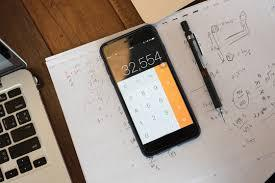Calculator: (112, 48, 195, 144)
